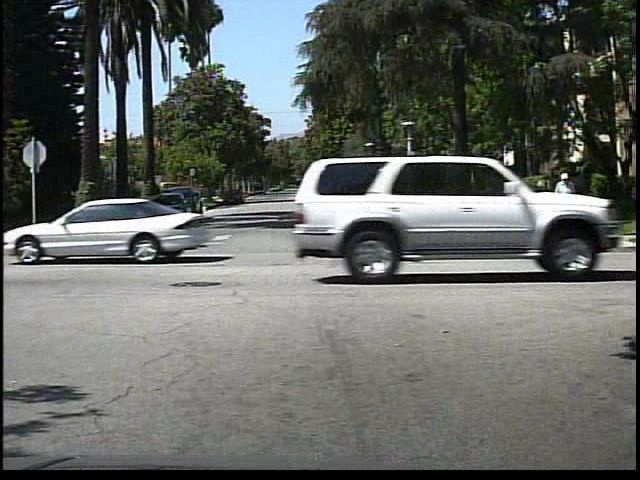person: (549, 167, 580, 200)
